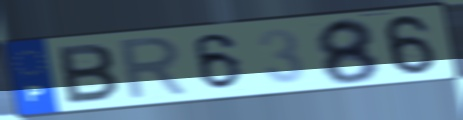3: (256, 26, 308, 87)
6: (381, 12, 442, 79), (191, 32, 246, 93)
8: (312, 16, 384, 86)
B: (55, 42, 122, 107)
R: (117, 33, 193, 104)
